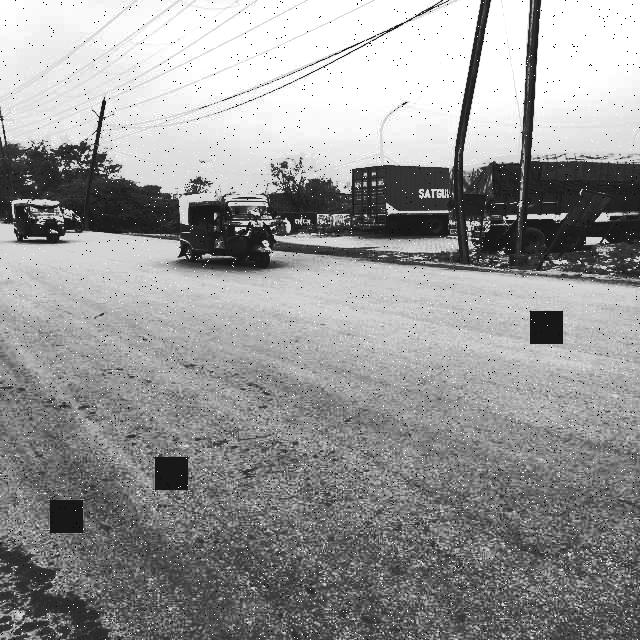Auto-Rickshaw: (168, 185, 292, 275), (3, 190, 75, 252)
